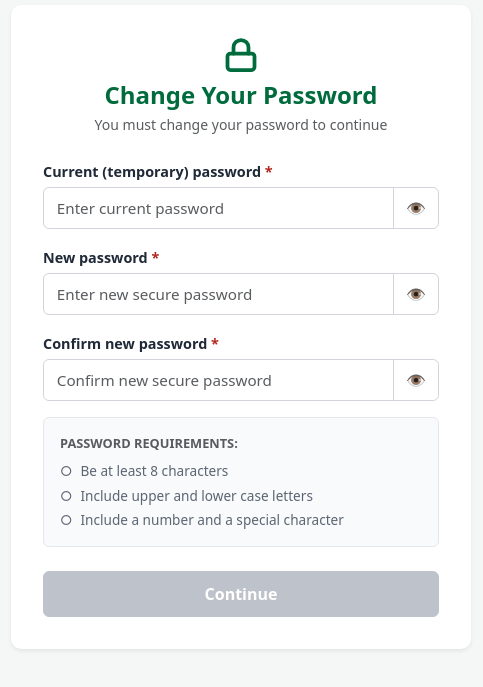
ChangePassword Component (UI-02, AC-02, FR-03) › displays error message when change password fails
Type "WrongCurrentPass!" into the password field with placeholder "Enter current password" at (218, 208), box [43,187,394,229]
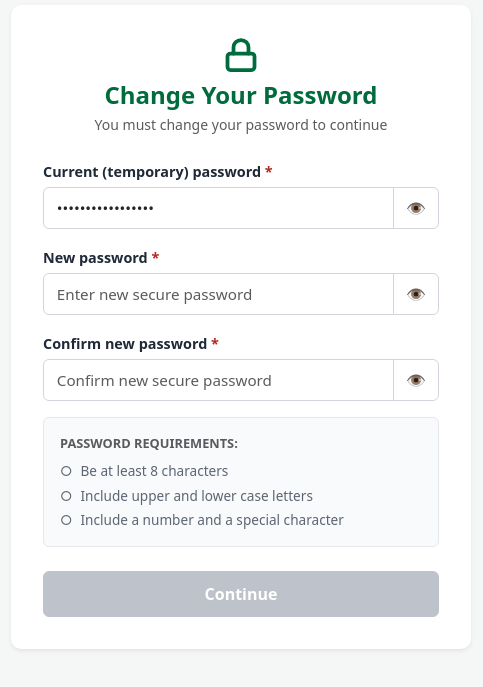
Type "SecurePass123!" into the password field with placeholder "Enter new secure password" at (218, 294), box [43,273,394,315]
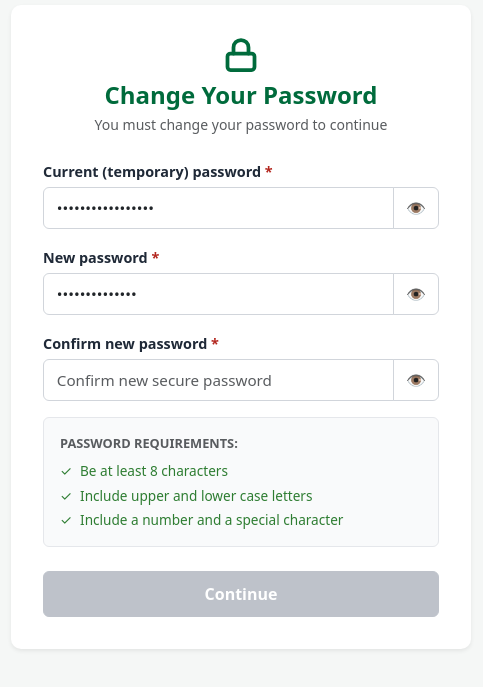
Type "SecurePass123!" into the password field with placeholder "Confirm new secure password" at (218, 380), box [43,359,394,401]
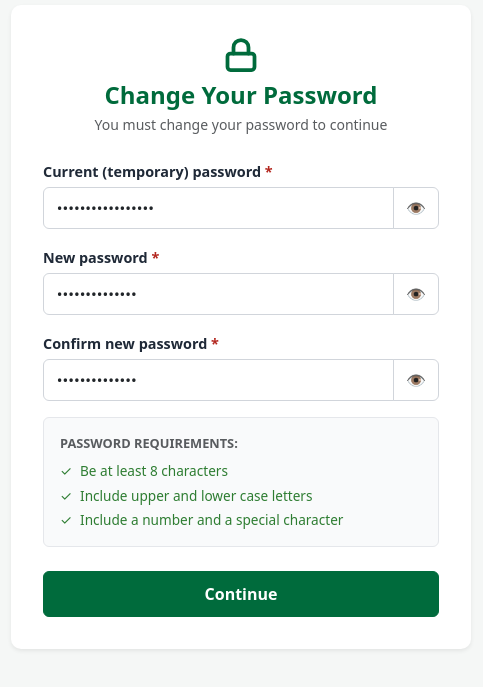
Click the button "Continue" at (241, 594), box [43,572,439,617]
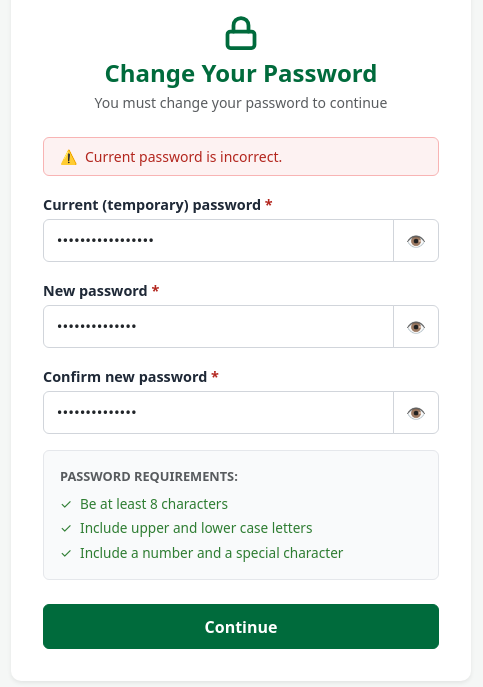
expect the text "Current password is incorrect." is shown: met, box [85,146,282,167]
